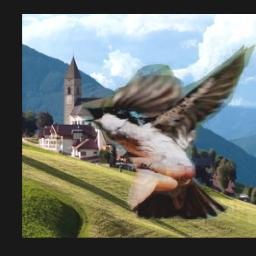Swallow: (80, 45, 256, 220)
